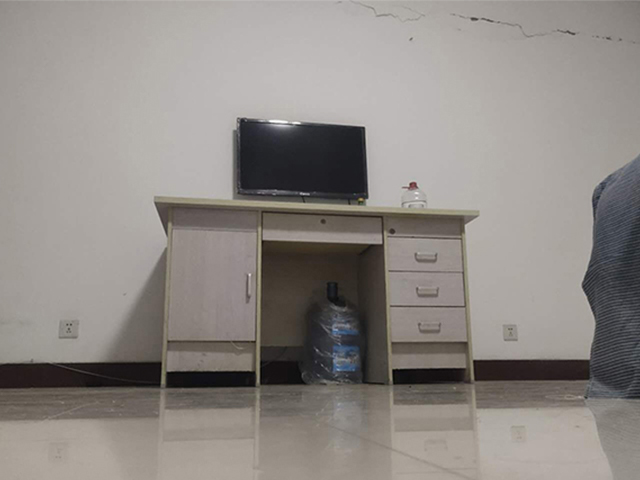table: (151, 192, 482, 390)
wire: (52, 362, 161, 388)
